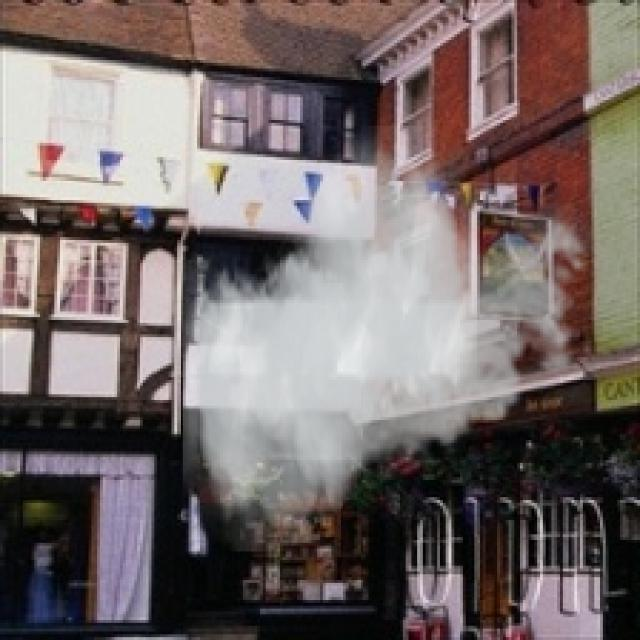smoke: (183, 126, 600, 551)
